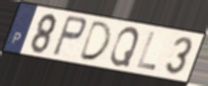3: (164, 36, 193, 77)
8: (29, 12, 58, 55)
D: (77, 20, 114, 63)
L: (135, 31, 157, 72)
P: (50, 13, 88, 58)
Q: (109, 25, 141, 68)
